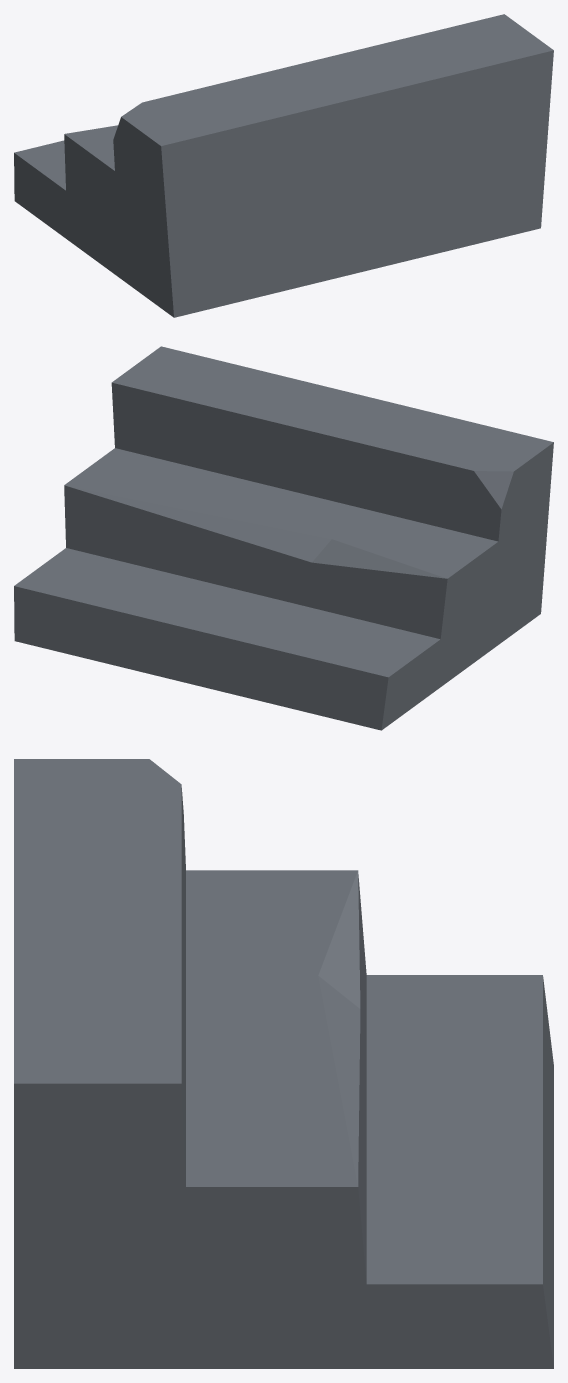
The model's file is stairs.glb.
The picture shows the model from 3 angles, top to bottom: view 1: azimuth 30°, elevation 25°; view 2: azimuth 150°, elevation 25°; view 3: azimuth 270°, elevation 25°; orthographic projection. The views are drawn at different scales.
Visible parts, largest first — view 1: SM_Prop_Stairs_Stone_01; view 2: SM_Prop_Stairs_Stone_01; view 3: SM_Prop_Stairs_Stone_01.
Boxes of the visible parts, x1,y1,x2,y2 form: SM_Prop_Stairs_Stone_01: [14, 14, 553, 317]; SM_Prop_Stairs_Stone_01: [14, 346, 553, 730]; SM_Prop_Stairs_Stone_01: [14, 759, 553, 1368].
Bounding box in the file's own units: 0.5242 × 0.2229 × 0.3687.
1 material, 1 textured.
